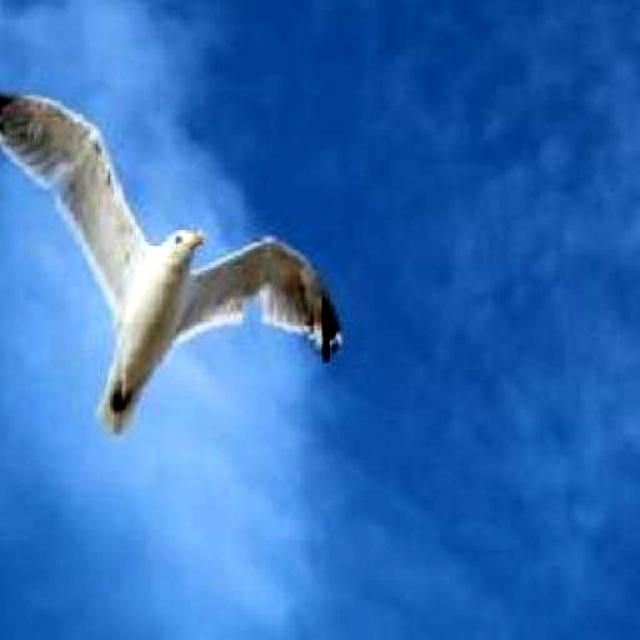airplane: (0, 90, 345, 442)
